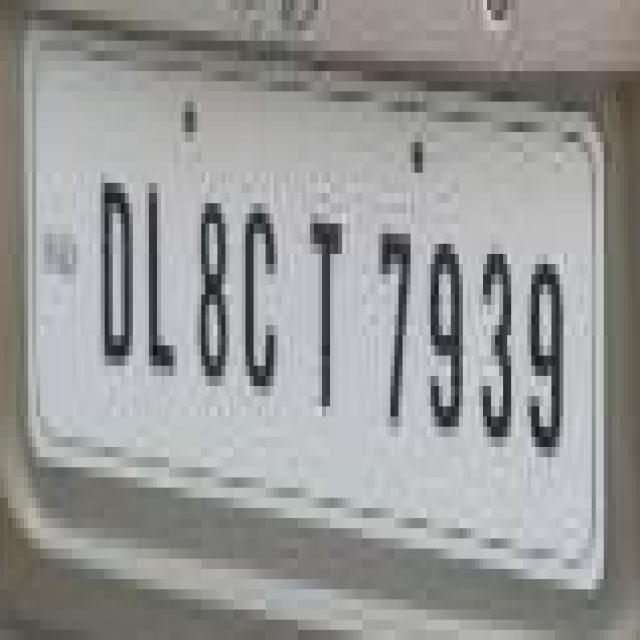license_plate: (16, 51, 588, 518)
